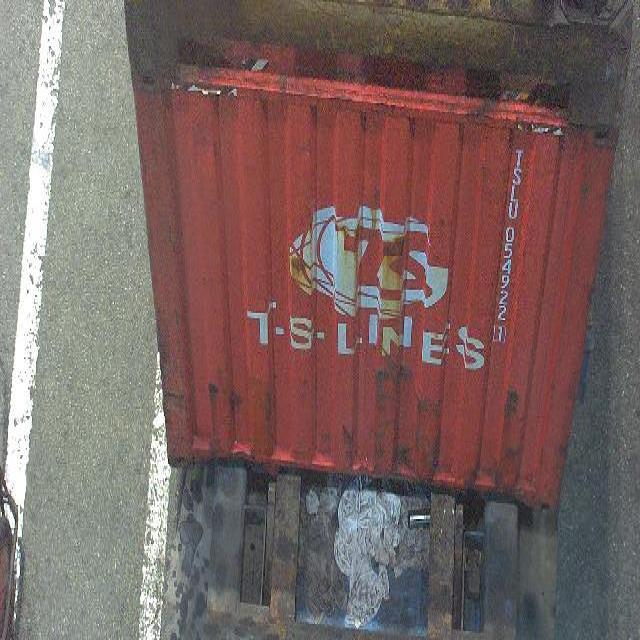container_number: (497, 122, 527, 367)
